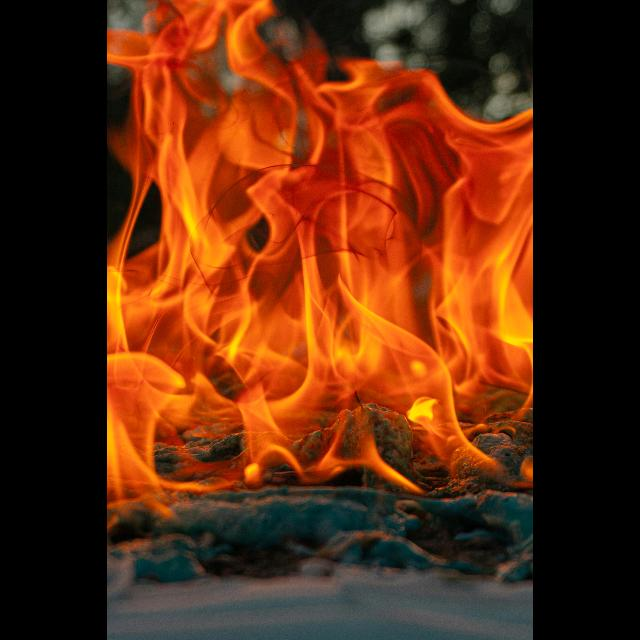fire: (107, 0, 534, 500)
